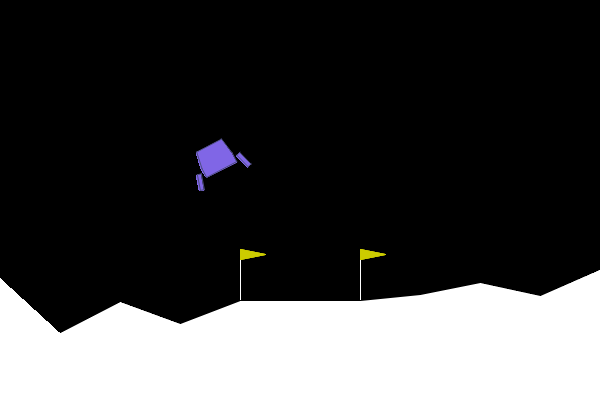lander: (181, 130, 253, 194)
